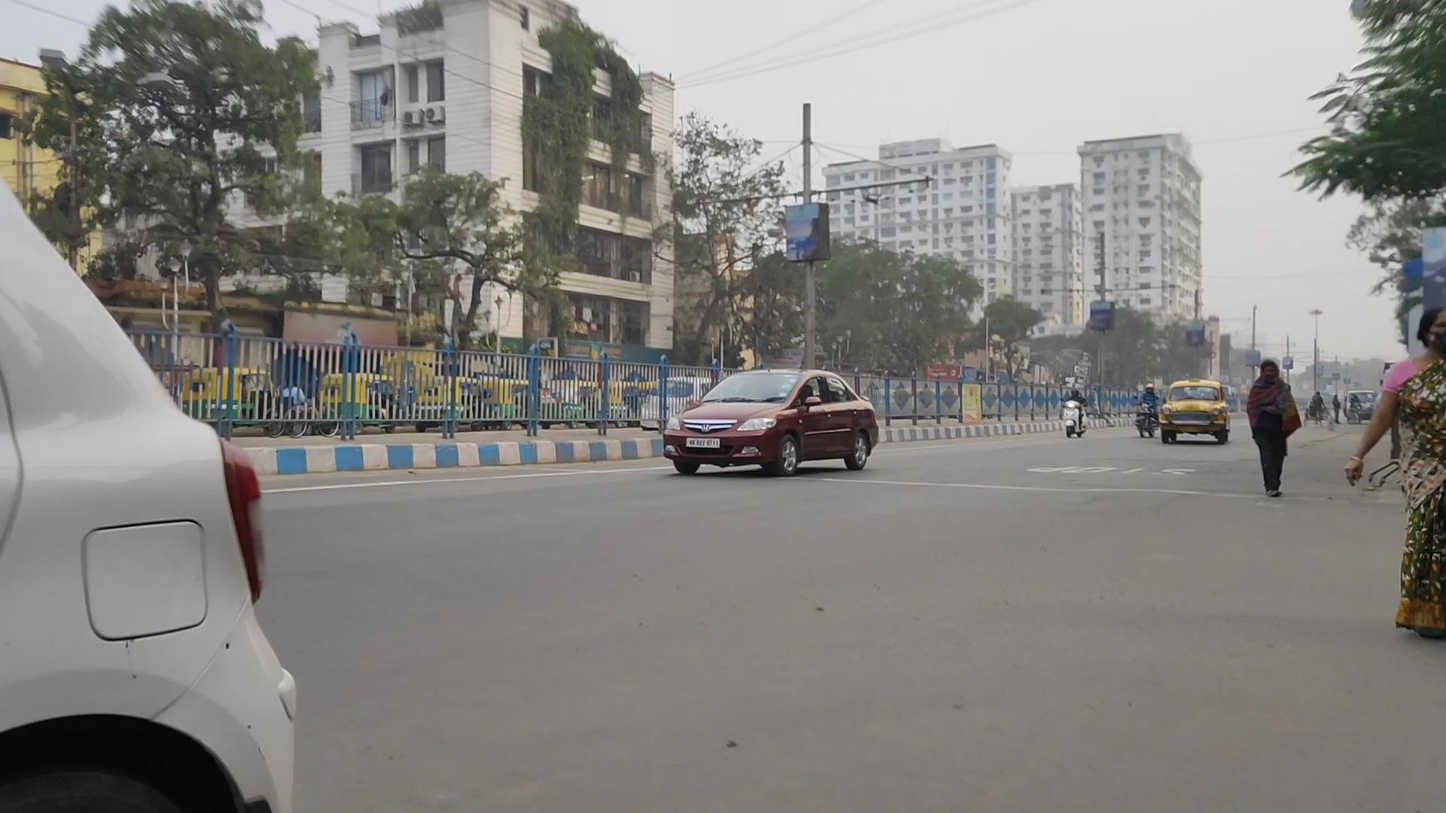Auto: (1158, 376, 1231, 446)
bike: (1133, 382, 1160, 438), (1060, 388, 1088, 438)
car: (664, 367, 879, 477)
